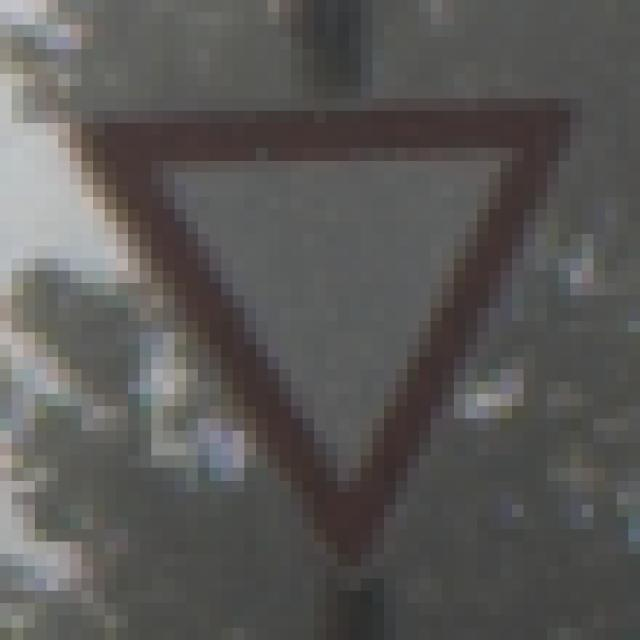Give Way: (59, 75, 583, 579)
